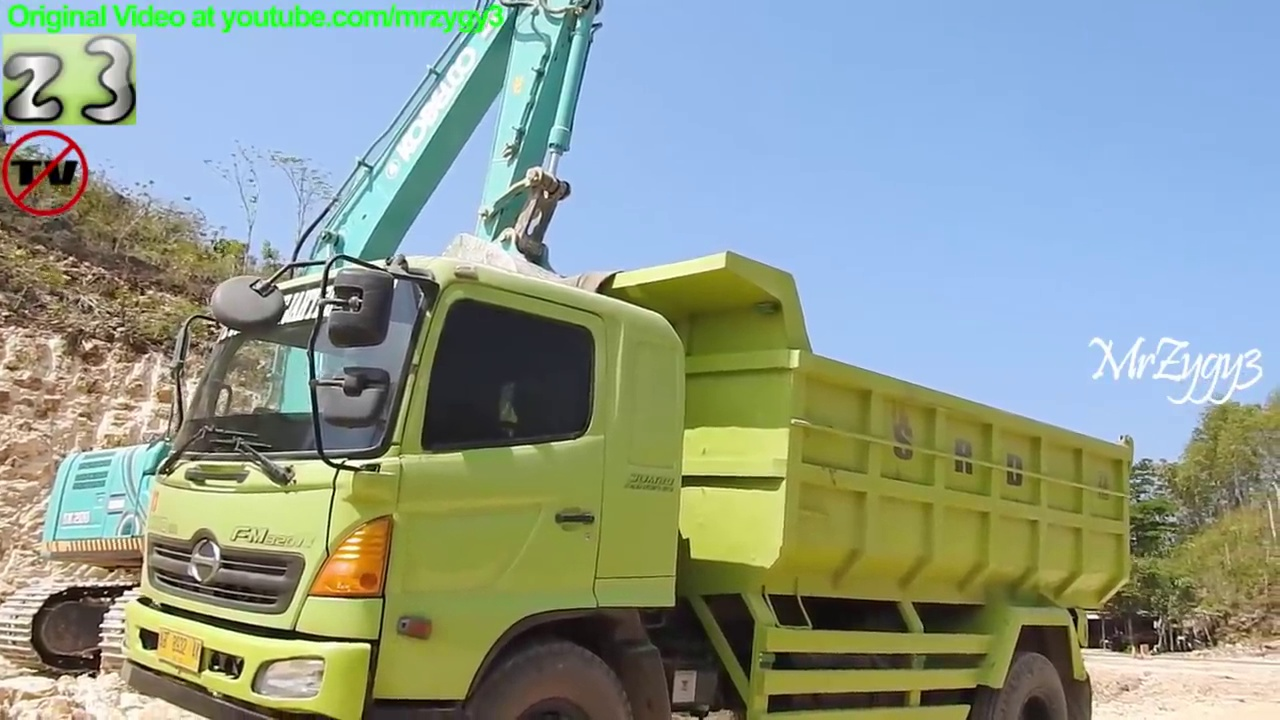excavator: (1, 10, 613, 682)
truck: (117, 233, 1141, 720)
